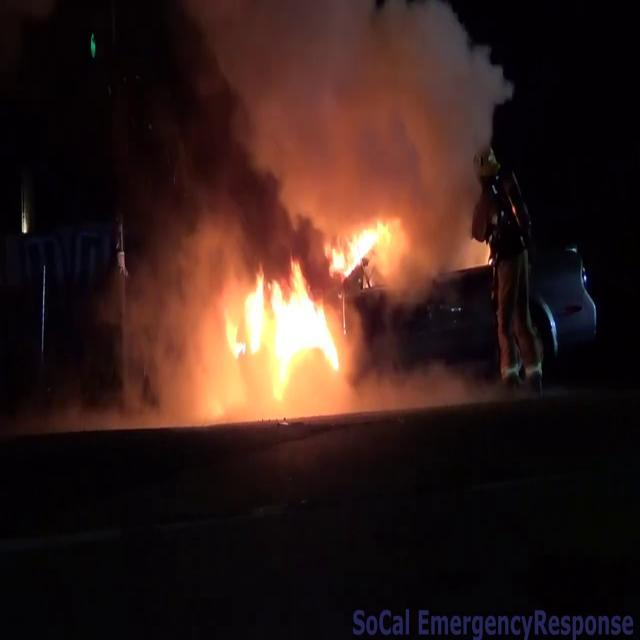Fire: (221, 256, 355, 408)
Smoke: (168, 0, 512, 246), (120, 184, 243, 422)
